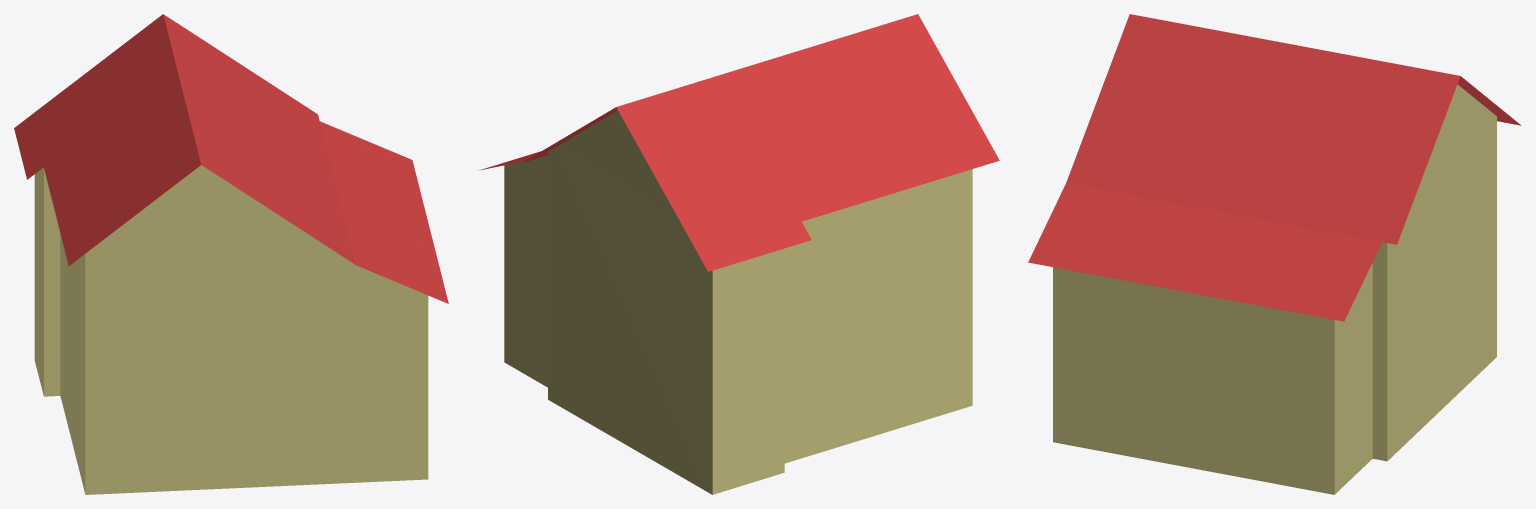
3 renders of one model, left to right at view 1: azimuth 30°, elevation 25°; view 2: azimuth 150°, elevation 25°; view 3: azimuth 270°, elevation 25°, orthographic. The views are drawn at different scales.
Bounding box in the file's own units: 19.54 × 19.59 × 14.68.
